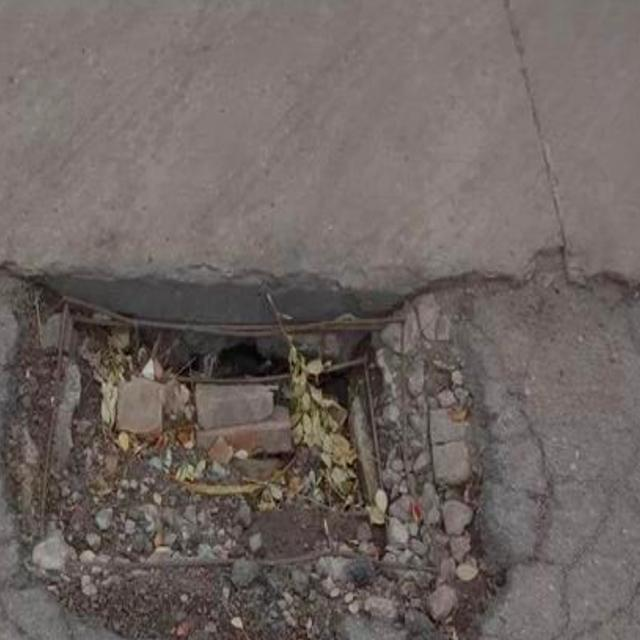broke: (0, 166, 572, 640)
